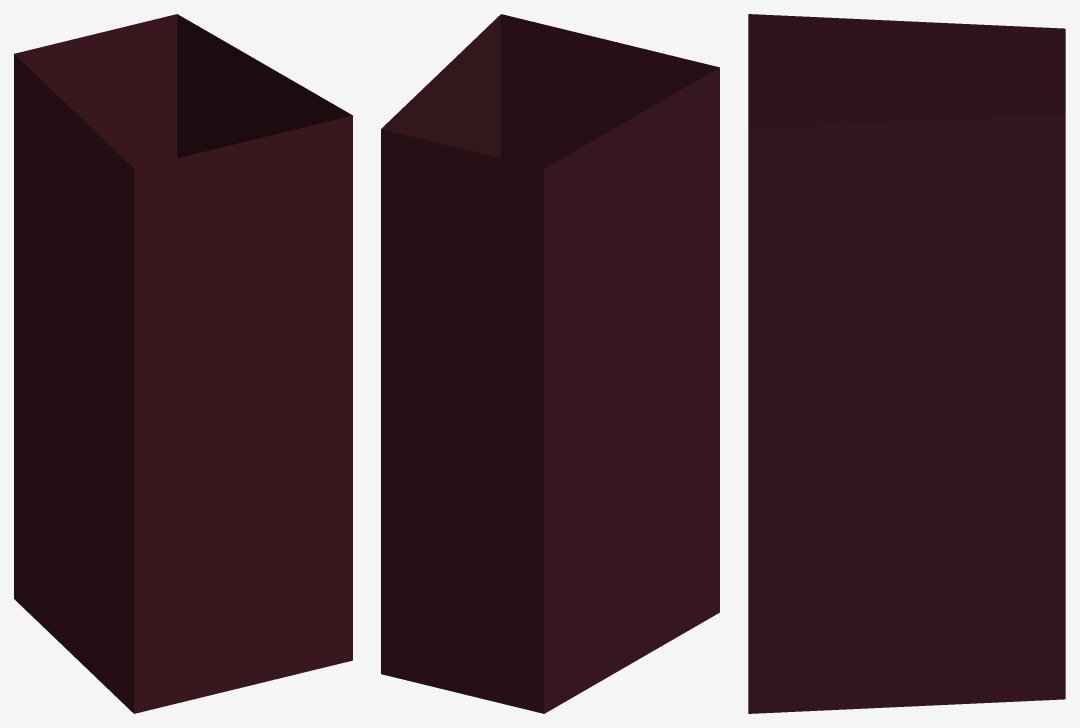
File: Itr_Obj_Speaker3_Base_04.FBX
The picture shows the model from 3 angles, left to right: view 1: azimuth 30°, elevation 25°; view 2: azimuth 150°, elevation 25°; view 3: azimuth 270°, elevation 25°; orthographic projection. The views are drawn at different scales.
Visible parts, largest first — view 1: Itr_Obj_Speaker3_Base_04; view 2: Itr_Obj_Speaker3_Base_04; view 3: Itr_Obj_Speaker3_Base_04.
Part boxes in pixels (x1,y1,x2,y2): Itr_Obj_Speaker3_Base_04: (14, 14, 352, 713); Itr_Obj_Speaker3_Base_04: (381, 14, 719, 713); Itr_Obj_Speaker3_Base_04: (748, 14, 1065, 713).
Bounding box in the file's own units: 9.88 × 23.51 × 11.56.
